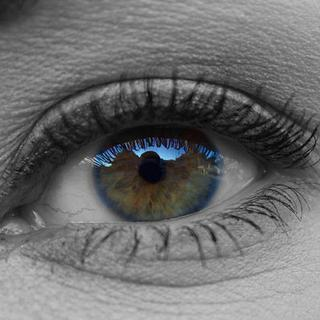pupil: (138, 157, 164, 183)
